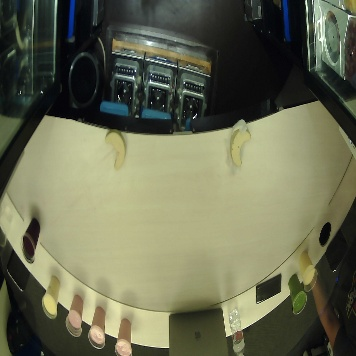full_cup: (20, 214, 45, 266), (40, 271, 64, 322), (65, 289, 86, 340), (88, 301, 109, 352), (298, 248, 321, 294), (287, 272, 309, 316), (114, 315, 137, 356)
puck: (103, 128, 131, 172), (229, 124, 254, 171)
